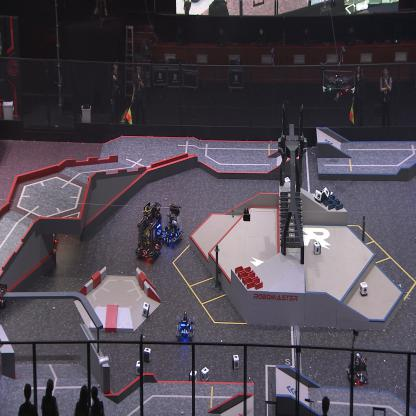car: (135, 214, 164, 263), (140, 201, 164, 250), (161, 202, 183, 246), (37, 206, 60, 248), (346, 351, 368, 385), (175, 309, 196, 341)
